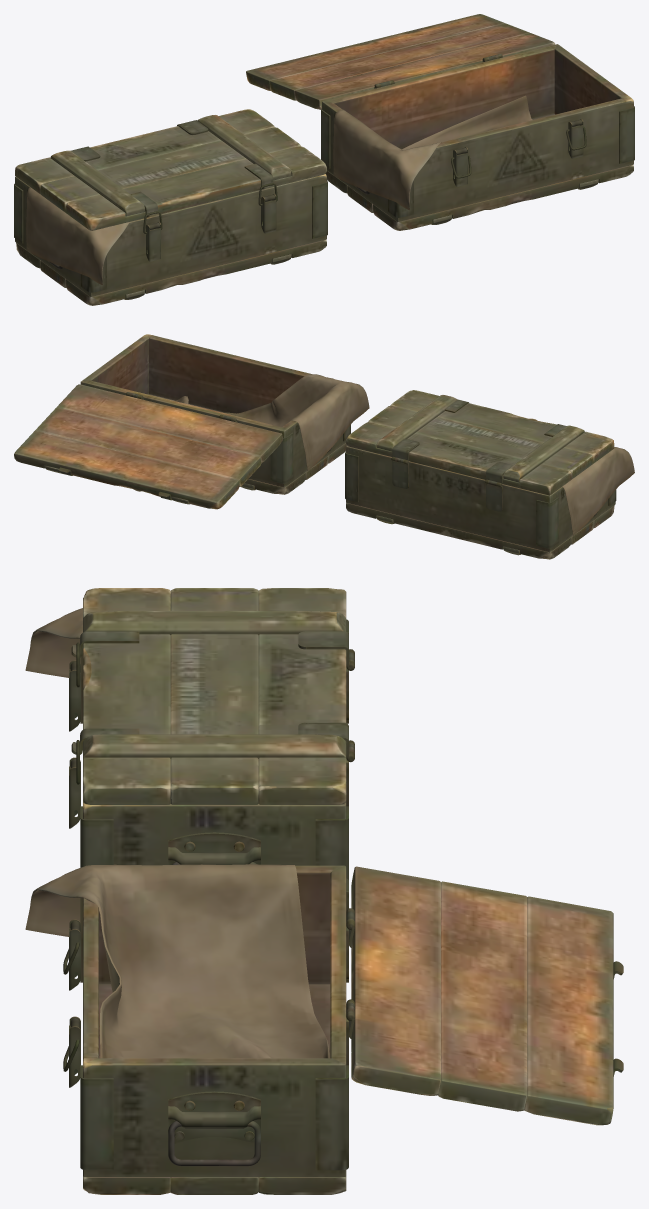
File: military_crate.glb
The picture shows the model from 3 angles, top to bottom: view 1: azimuth 30°, elevation 25°; view 2: azimuth 150°, elevation 25°; view 3: azimuth 270°, elevation 25°; orthographic projection. The views are drawn at different scales.
Visible parts, largest first — view 1: old_military_crate_b, old_military_crate_lid_a, old_military_crate_a, old_military_crate_lid_b, old_military_crate_cloth_b, old_military_crate_cloth_a, old_military_crate_latch_a, old_military_crate_latch_b; view 2: old_military_crate_lid_b, old_military_crate_lid_a, old_military_crate_a, old_military_crate_b, old_military_crate_cloth_b, old_military_crate_cloth_a; view 3: old_military_crate_lid_a, old_military_crate_lid_b, old_military_crate_b, old_military_crate_cloth_b, old_military_crate_a, old_military_crate_cloth_a, old_military_crate_latch_b, old_military_crate_latch_a.
Part boxes in pixels (box(x1,y1,x2,y2)): old_military_crate_b: box(321, 44, 634, 230); old_military_crate_lid_a: box(15, 109, 326, 230); old_military_crate_a: box(14, 174, 327, 305); old_military_crate_lid_b: box(246, 14, 555, 109); old_military_crate_cloth_b: box(333, 95, 532, 209); old_military_crate_cloth_a: box(26, 187, 129, 284); old_military_crate_latch_a: box(146, 194, 276, 261); old_military_crate_latch_b: box(453, 119, 583, 186); old_military_crate_lid_b: box(14, 384, 282, 509); old_military_crate_lid_a: box(346, 390, 614, 495); old_military_crate_a: box(345, 446, 616, 559); old_military_crate_b: box(80, 334, 350, 494); old_military_crate_cloth_b: box(174, 374, 369, 470); old_military_crate_cloth_a: box(562, 447, 634, 535); old_military_crate_lid_a: box(71, 588, 354, 804); old_military_crate_lid_b: box(346, 866, 623, 1125); old_military_crate_b: box(80, 865, 354, 1194); old_military_crate_cloth_b: box(25, 864, 329, 1058); old_military_crate_a: box(80, 619, 354, 879); old_military_crate_cloth_a: box(25, 608, 82, 677); old_military_crate_latch_b: box(69, 919, 80, 1087); old_military_crate_latch_a: box(69, 660, 80, 828).
Bounding box in the file's own units: 1.82 × 0.3009 × 0.9757.
Materials: 1 (1 with a texture image).
